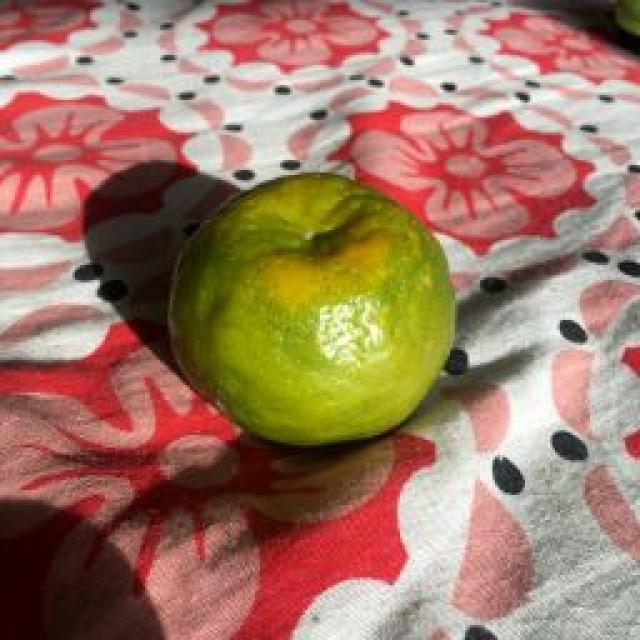Good_Orange: (170, 172, 458, 452)
